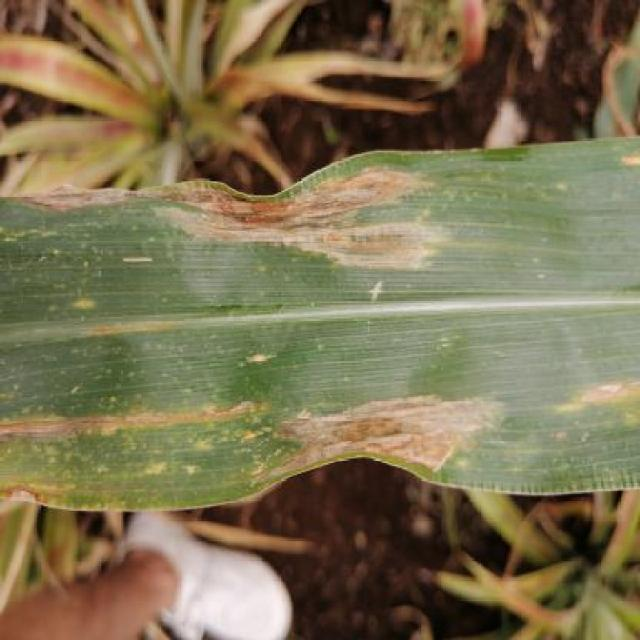Corn_Leaf_Blight: (0, 140, 640, 509)
